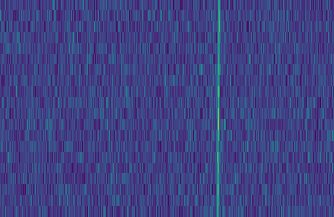signal: (213, 0, 223, 217)
